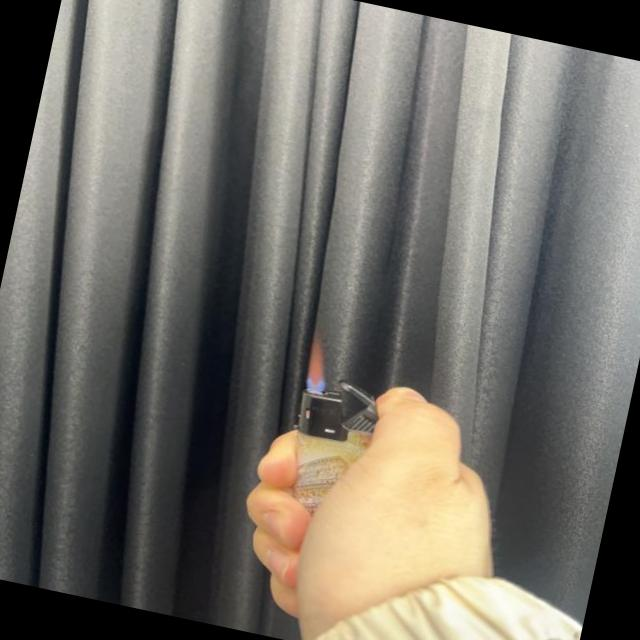Fire: (299, 329, 337, 397)
